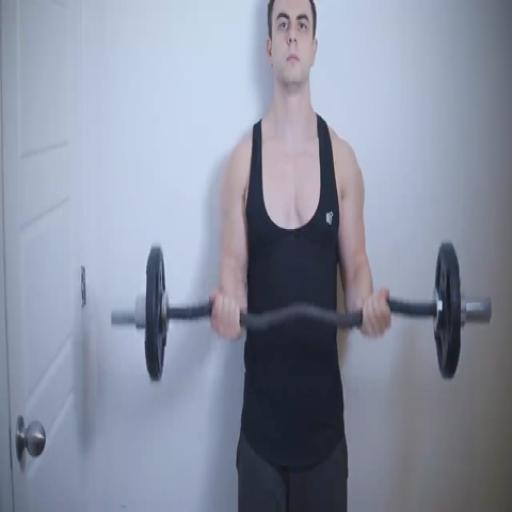exercise: (207, 0, 394, 511)
